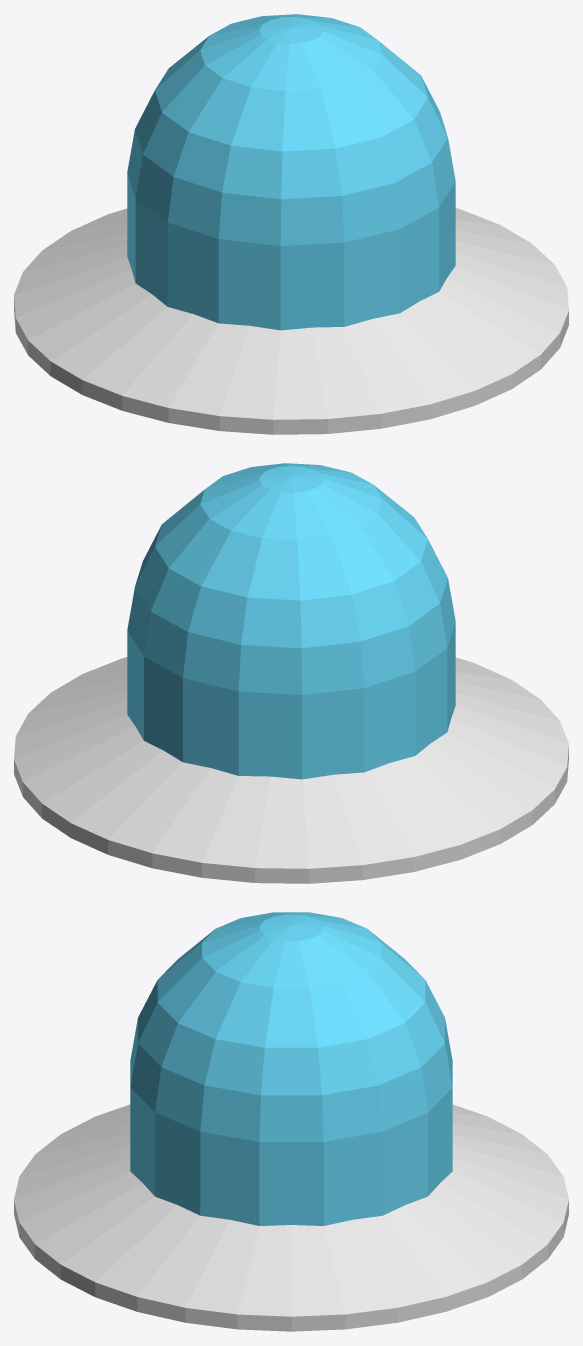
Rendered from Ufo_v1.fbx.
3 views of the same model, one above another, from view 1: azimuth 30°, elevation 25°; view 2: azimuth 150°, elevation 25°; view 3: azimuth 270°, elevation 25° (orthographic).
Parts seen in each view (by area): view 1: Cylinder; view 2: Cylinder; view 3: Cylinder.
Part boxes in pixels (<box>): Cylinder: <box>14,14,568,434</box>; Cylinder: <box>14,463,568,883</box>; Cylinder: <box>14,912,568,1331</box>.
Size of the model in its own units: 306 by 218 by 306.
